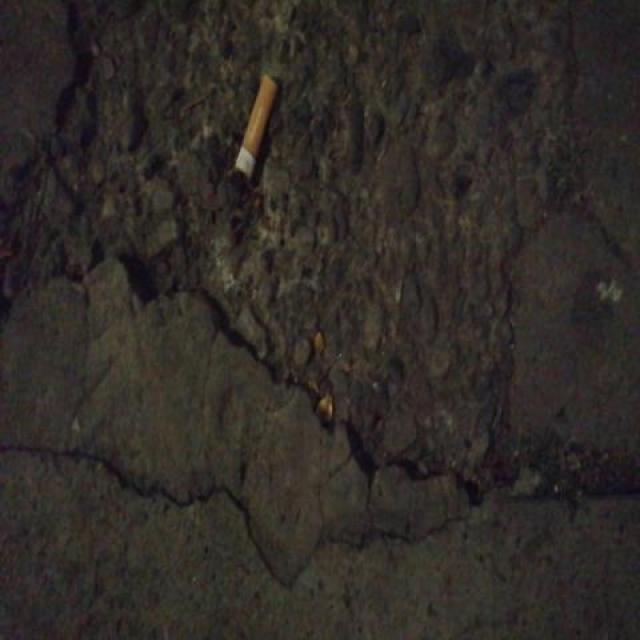non-organic waste: (229, 69, 280, 194)
